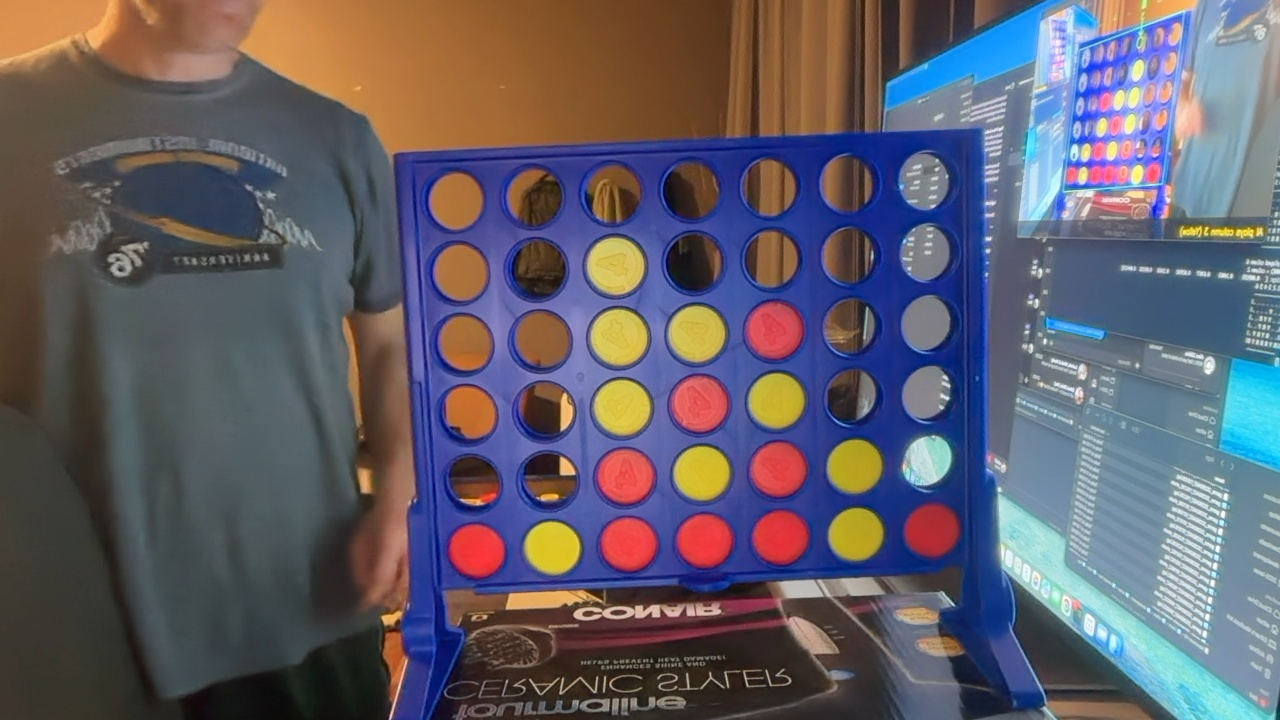red piece: (745, 301, 804, 360), (669, 375, 729, 433), (595, 448, 655, 505), (749, 441, 807, 498), (752, 510, 809, 566), (676, 514, 733, 569), (600, 517, 657, 572), (448, 524, 505, 579), (904, 503, 960, 558)
yellow piece: (585, 236, 646, 296), (588, 308, 649, 368), (667, 304, 727, 363), (592, 378, 652, 437), (747, 372, 805, 430), (673, 445, 731, 501), (523, 521, 582, 575), (826, 439, 883, 494), (828, 508, 884, 561)
